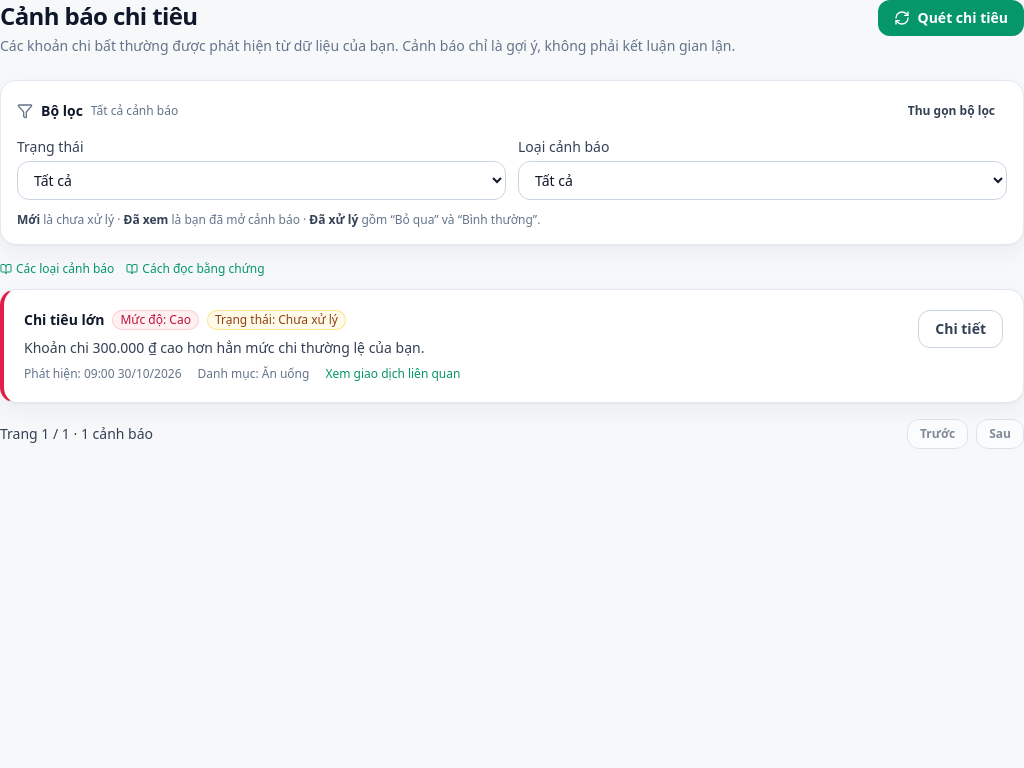
Scenario: AlertsPage — detail and status changes › renders facts, explains the actions and updates the status only after the API responds
Click the button with aria-label "Xem chi tiết" at (961, 329), box [918,310,1003,348]
(page scrolled)
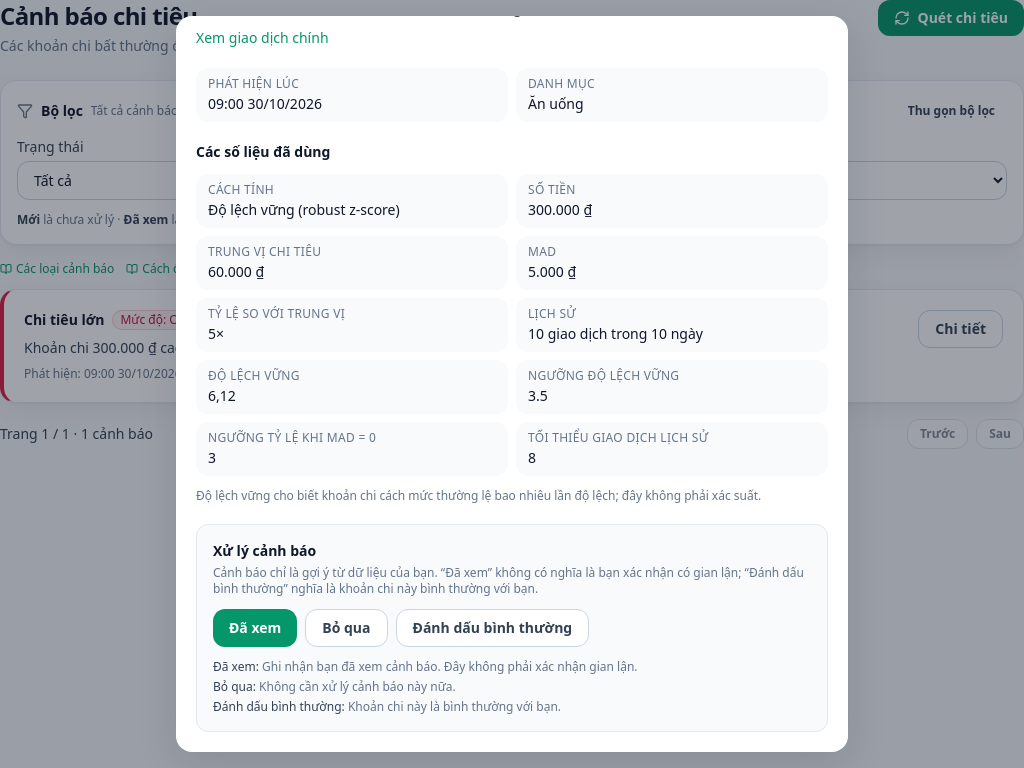
Result: the text "Độ lệch vững (robust z-score)" is shown at [208,200,400,219]
Result: the text "Đã xem:" is shown at [213,658,259,675]
Result: the list item "không phải xác nhận gian lận" is shown at [262,658,638,675]
Click the button "Bỏ qua" at (346, 628), box [305,609,388,647]
(page scrolled)
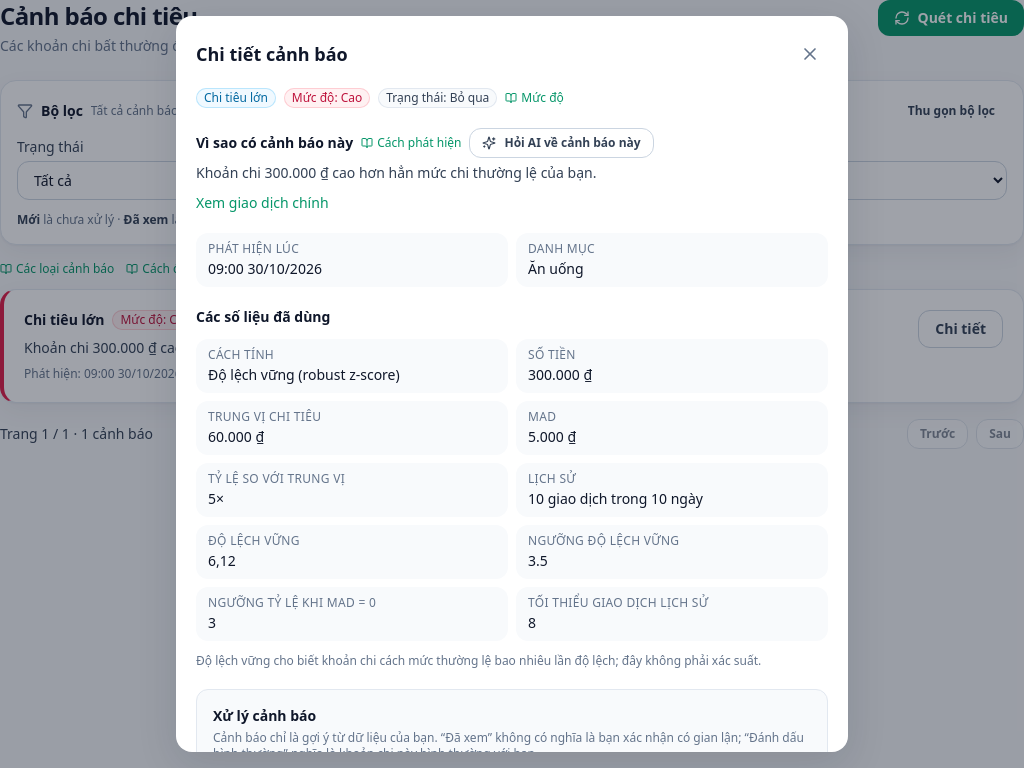
Result: the text "Trạng thái: Bỏ qua" is shown at [378,88,497,108]
